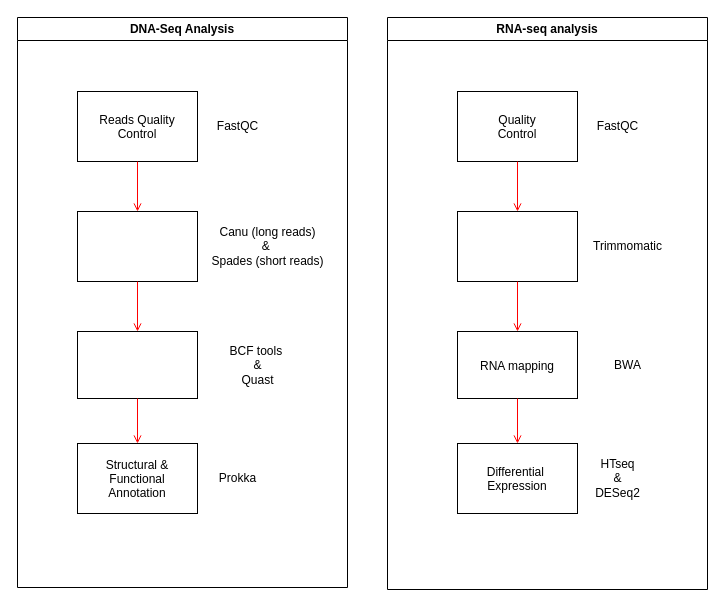
Some shapes in this 725 by 607 pixel diagram are drawn without their labels. Each missing label, with the box of its shape:
Assembly Evaluation: (76, 330, 198, 398)
DNA assembly: (76, 210, 198, 282)
Preprocessing Short Reads: (456, 210, 578, 282)
